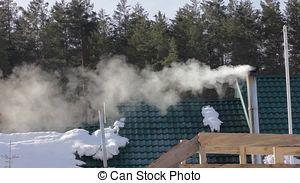smoke: (0, 81, 61, 127), (97, 71, 163, 102), (172, 68, 250, 81)
